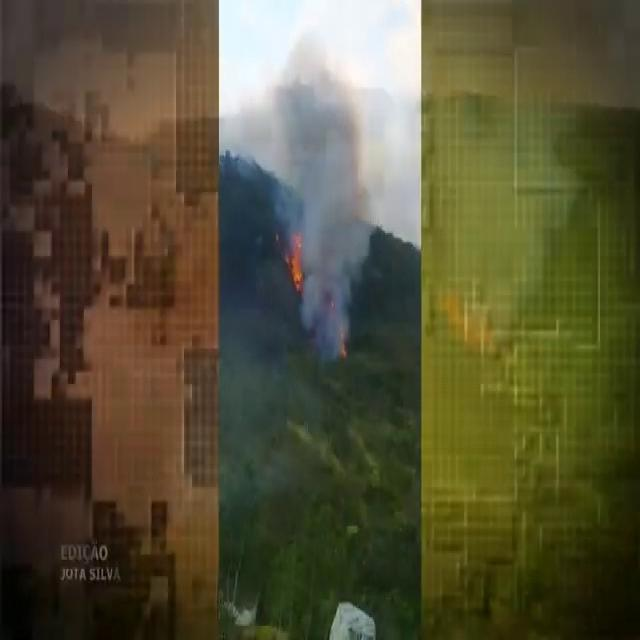Fire: (279, 228, 305, 294)
Smoke: (298, 48, 364, 371)
